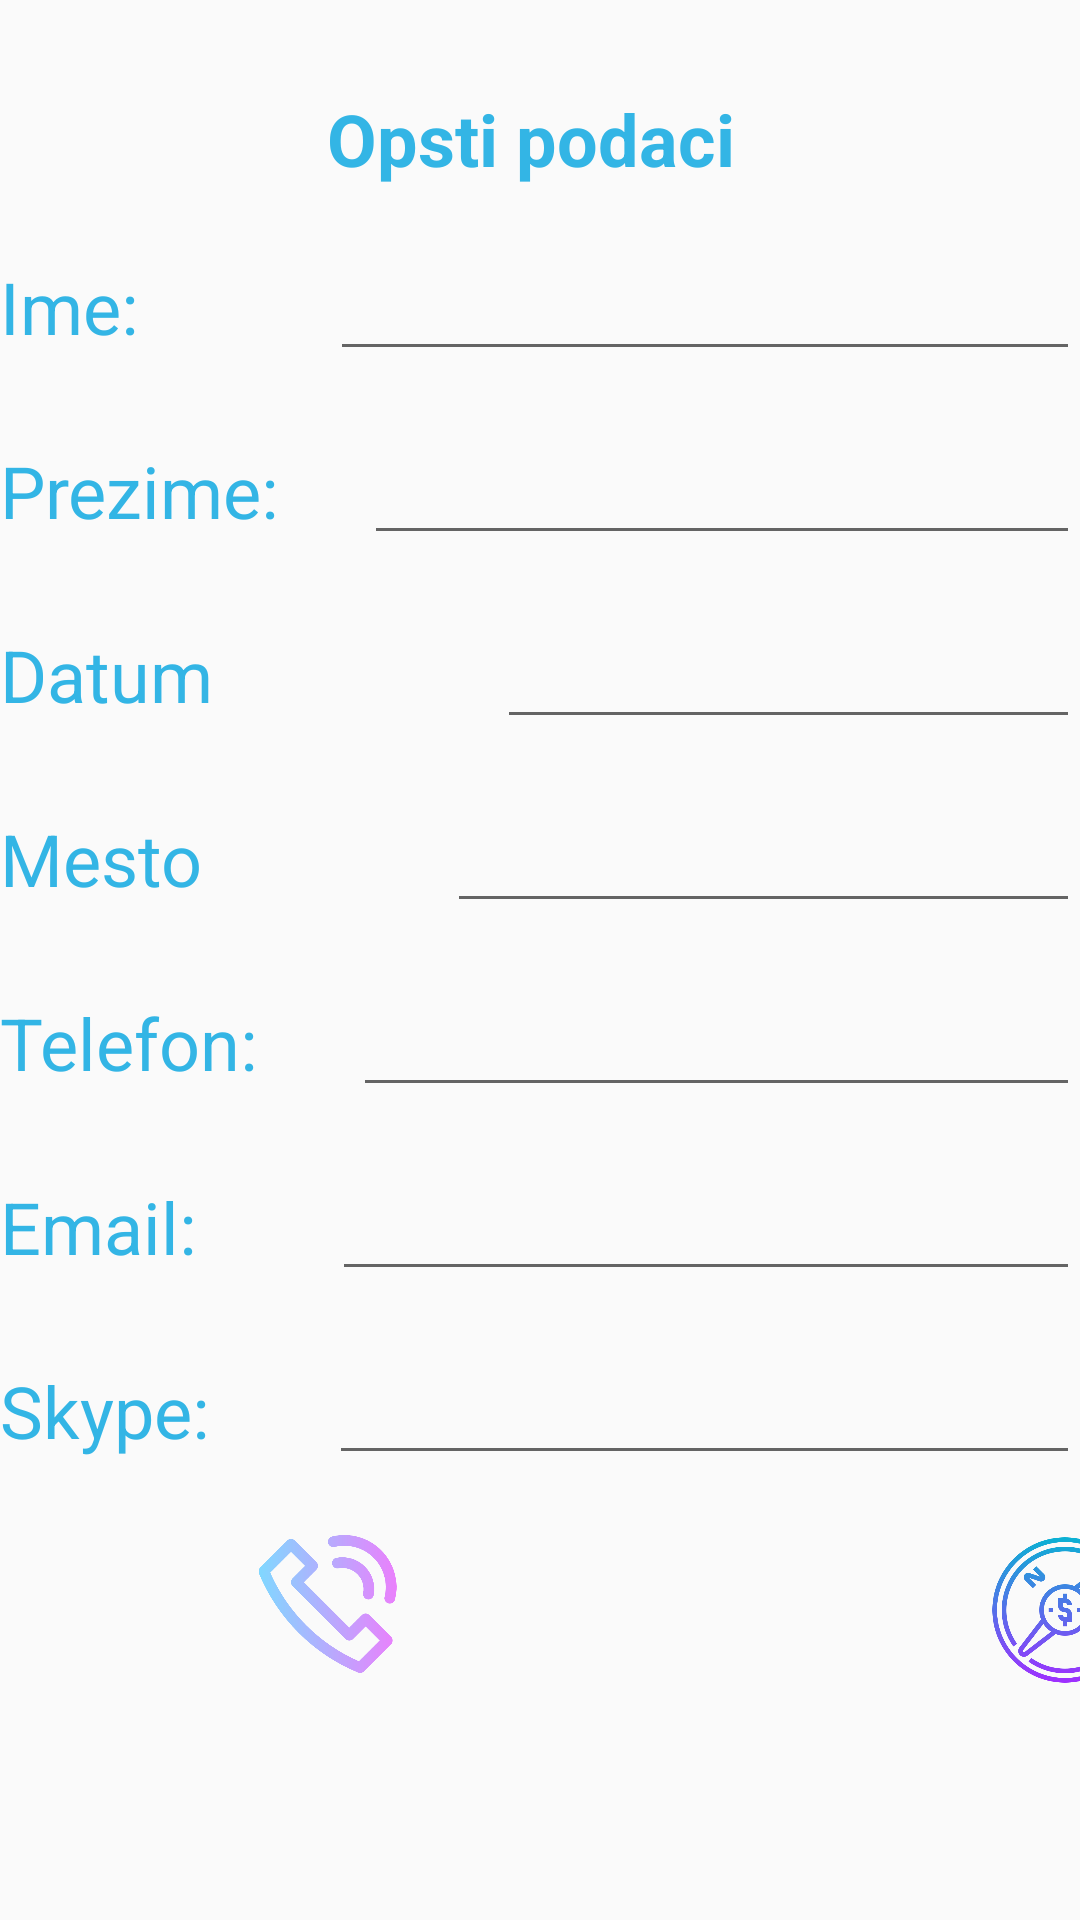

Screen size 1080x1920. Icon name, then its box in pixels as box=[x1, y1, x2, y2]:
phonecall: box=[259, 1535, 397, 1673]
